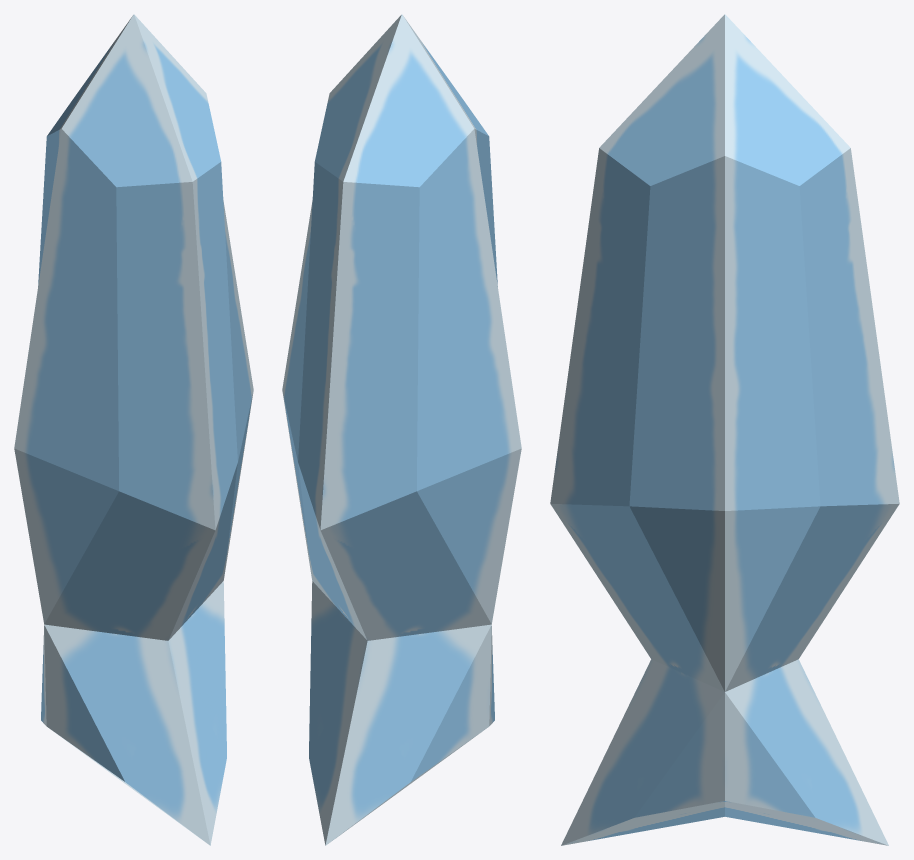
File: fish.fbx
3 views of the same model, side by side, from view 1: azimuth 30°, elevation 25°; view 2: azimuth 150°, elevation 25°; view 3: azimuth 270°, elevation 25° (orthographic). The views are drawn at different scales.
Visible parts, largest first — view 1: Plane; view 2: Plane; view 3: Plane.
Part boxes in pixels (box(x1,y1,x2,y2)): Plane: box(14, 14, 253, 845); Plane: box(282, 14, 521, 845); Plane: box(550, 14, 899, 845).
Bounding box in the file's own units: 22.34 × 69.17 × 26.33.
1 material, 1 textured.
